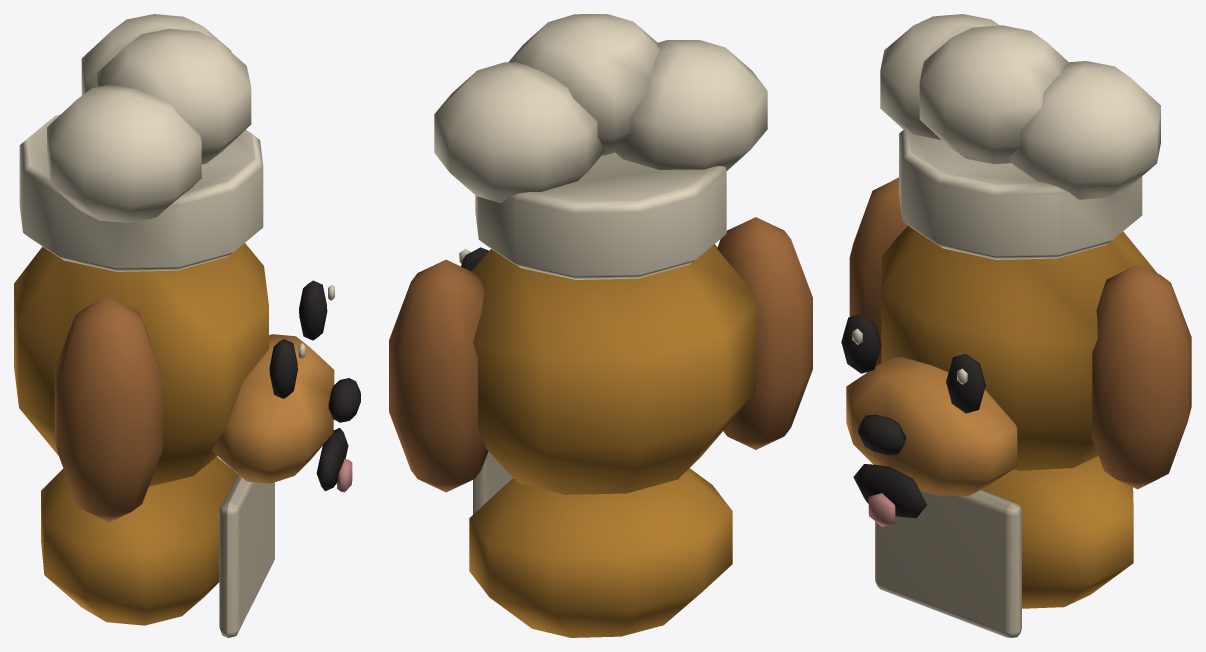
Rendered from barkbq_driver.glb.
The picture shows the model from 3 angles, left to right: view 1: azimuth 30°, elevation 25°; view 2: azimuth 150°, elevation 25°; view 3: azimuth 270°, elevation 25°; orthographic projection. The views are drawn at different scales.
Parts seen in each view (by area): view 1: retriever head; view 2: retriever head; view 3: retriever head.
Part boxes in pixels (<box>): retriever head: <box>14,14,360,637</box>; retriever head: <box>389,14,812,637</box>; retriever head: <box>841,14,1191,637</box>.
Size of the model in its own units: 0.4227 by 0.76 by 0.4227.
